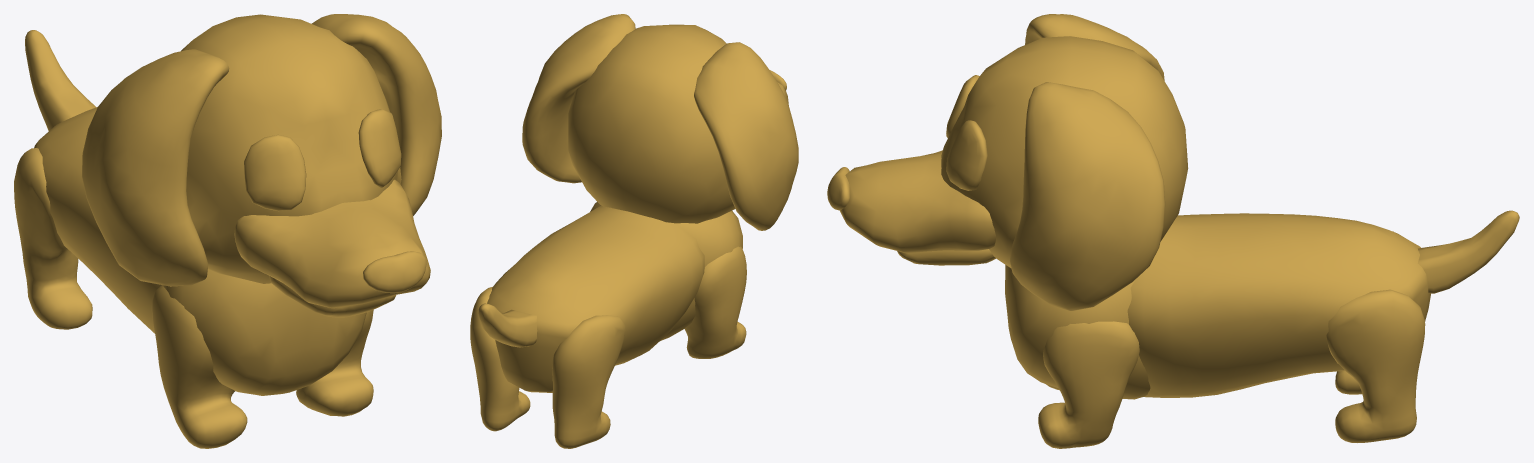
The model's file is Sky_Low_Model.FBX.
3 views of the same model, side by side, from view 1: azimuth 30°, elevation 25°; view 2: azimuth 150°, elevation 25°; view 3: azimuth 270°, elevation 25° (orthographic). The views are drawn at different scales.
Parts seen in each view (by area): view 1: Sky_Low_Model; view 2: Sky_Low_Model; view 3: Sky_Low_Model.
Boxes of the visible parts, x1,y1,x2,y2 form: Sky_Low_Model: (14,14,441,448); Sky_Low_Model: (470,14,798,448); Sky_Low_Model: (827,14,1519,448).
Size of the model in its own units: 21.01 by 24.34 by 41.66.
